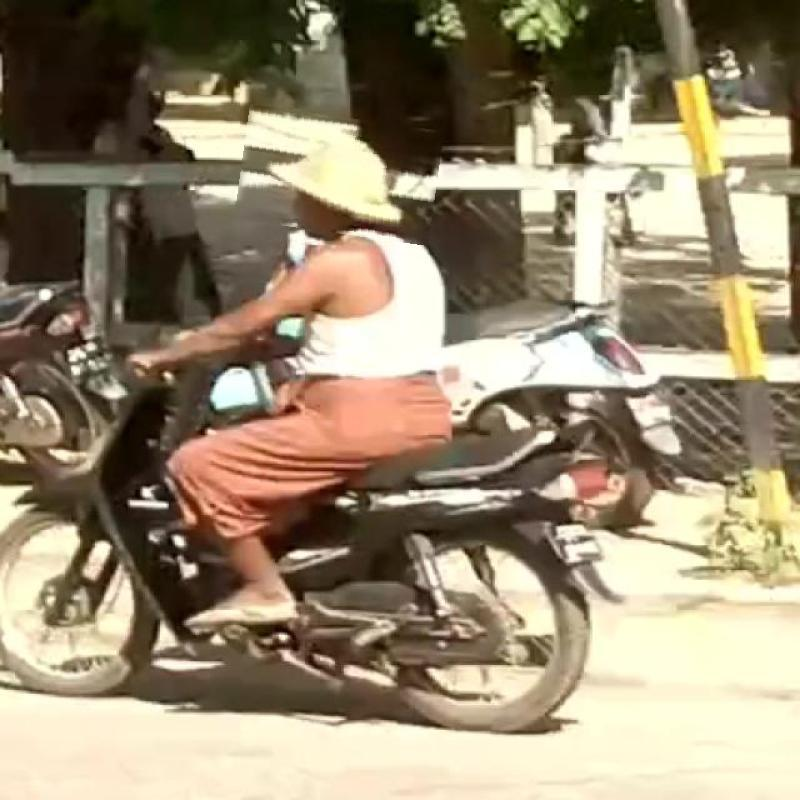nohelmet: (238, 111, 440, 240)
